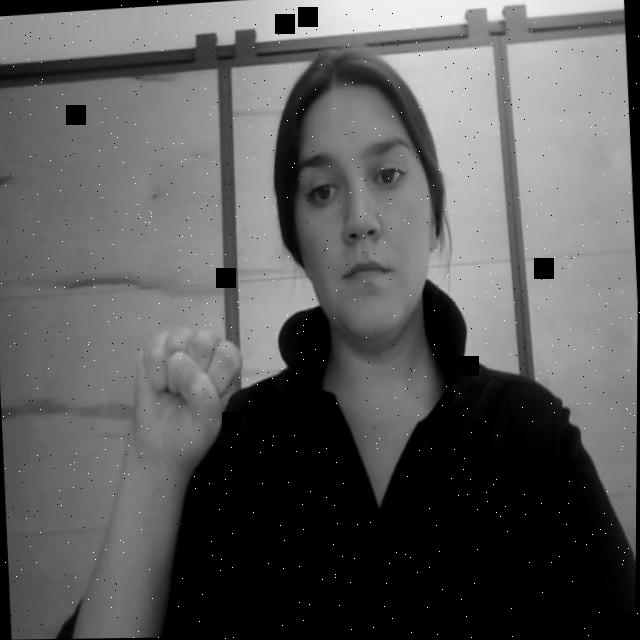Rock: (122, 318, 251, 485)
